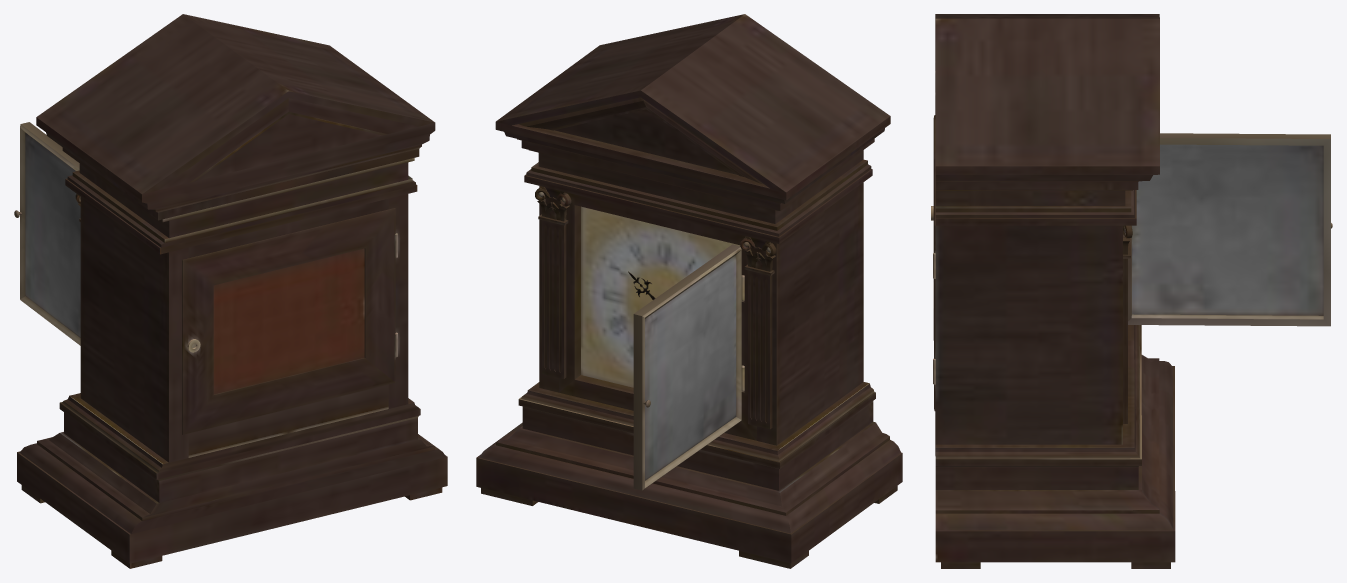
Rendered from clock-mantel-b.glb.
3 views of the same model, side by side, from view 1: azimuth 30°, elevation 25°; view 2: azimuth 150°, elevation 25°; view 3: azimuth 270°, elevation 25° (orthographic). The views are drawn at different scales.
Parts seen in each view (by area): view 1: clock-mantel-b; view 2: clock-mantel-b; view 3: clock-mantel-b.
Boxes of the visible parts, box(x1,y1,x2,y2) form: clock-mantel-b: box(14, 14, 447, 568); clock-mantel-b: box(476, 14, 902, 568); clock-mantel-b: box(931, 14, 1332, 568).
Bounding box in the file's own units: 0.2436 × 0.3227 × 0.2503.
Materials: 1 (1 with a texture image).
